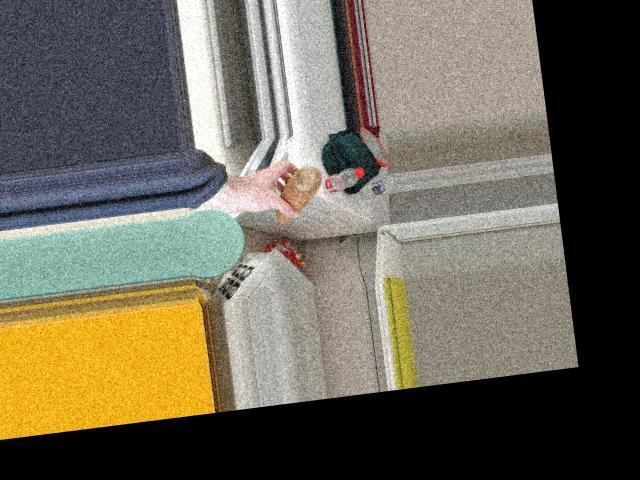sweet_potato: (270, 160, 326, 229)
